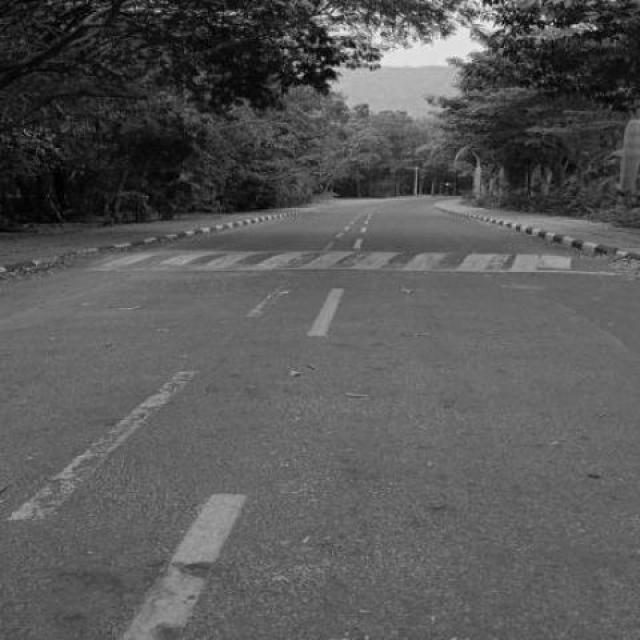Speed Bump: (80, 248, 632, 271)
